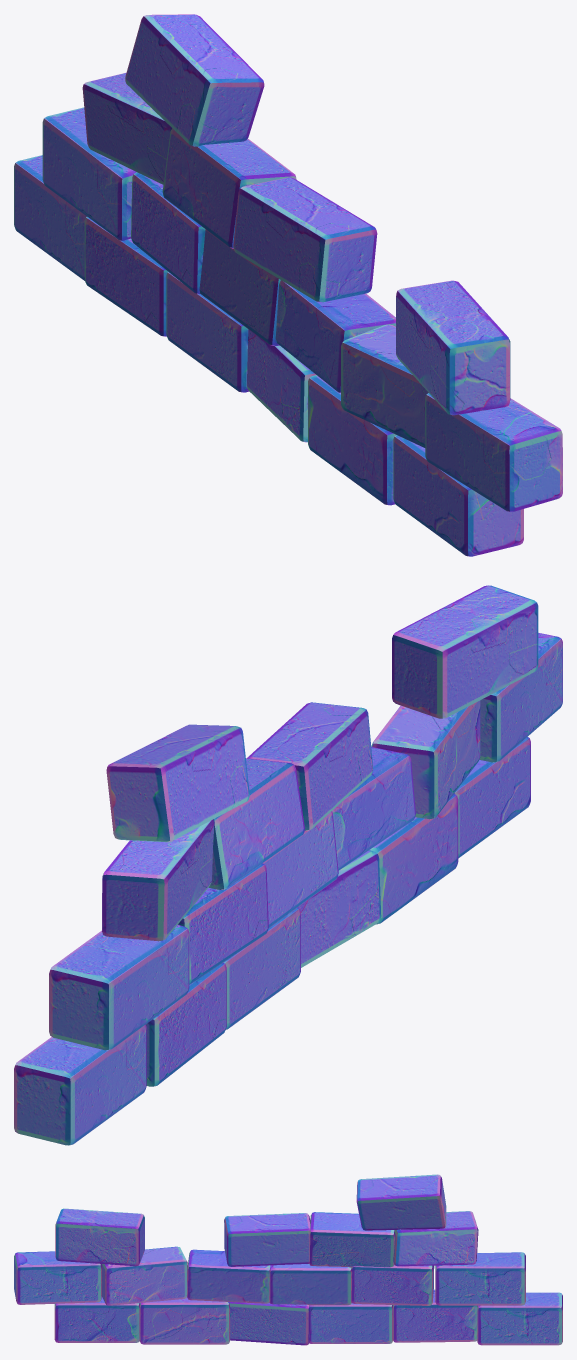
File: Dungeon_WallBricksSmallFade3.fbx
3 views of the same model, one above another, from view 1: azimuth 30°, elevation 25°; view 2: azimuth 150°, elevation 25°; view 3: azimuth 270°, elevation 25° (orthographic). The views are drawn at different scales.
Visible parts, largest first — view 1: MeshHP; view 2: MeshHP; view 3: MeshHP.
Part boxes in pixels (box(x1,y1,x2,y2)): MeshHP: box(14, 14, 562, 556); MeshHP: box(14, 585, 562, 1145); MeshHP: box(14, 1174, 562, 1345).
Size of the model in its own units: 0.4669 by 1.42 by 4.34.
